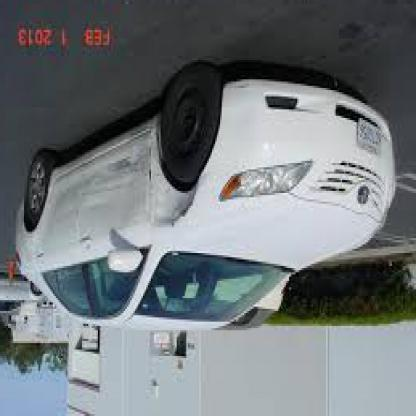dent: (149, 199, 193, 234)
